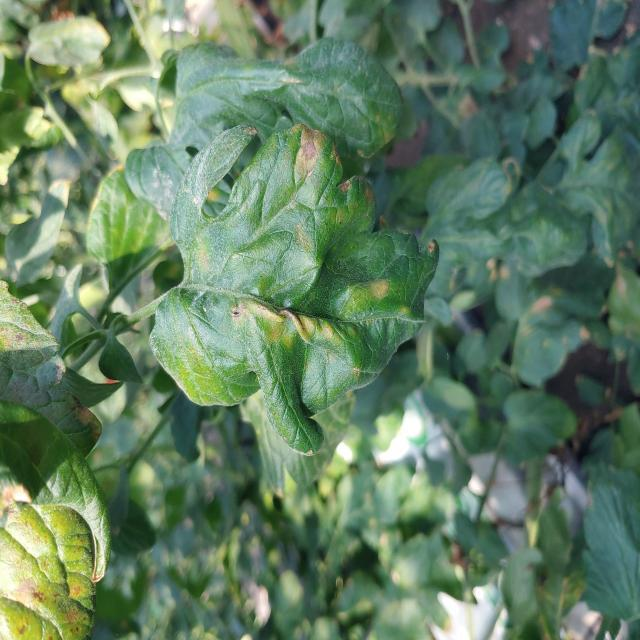Tomato mold leaf: (150, 123, 440, 456), (126, 33, 402, 223)
